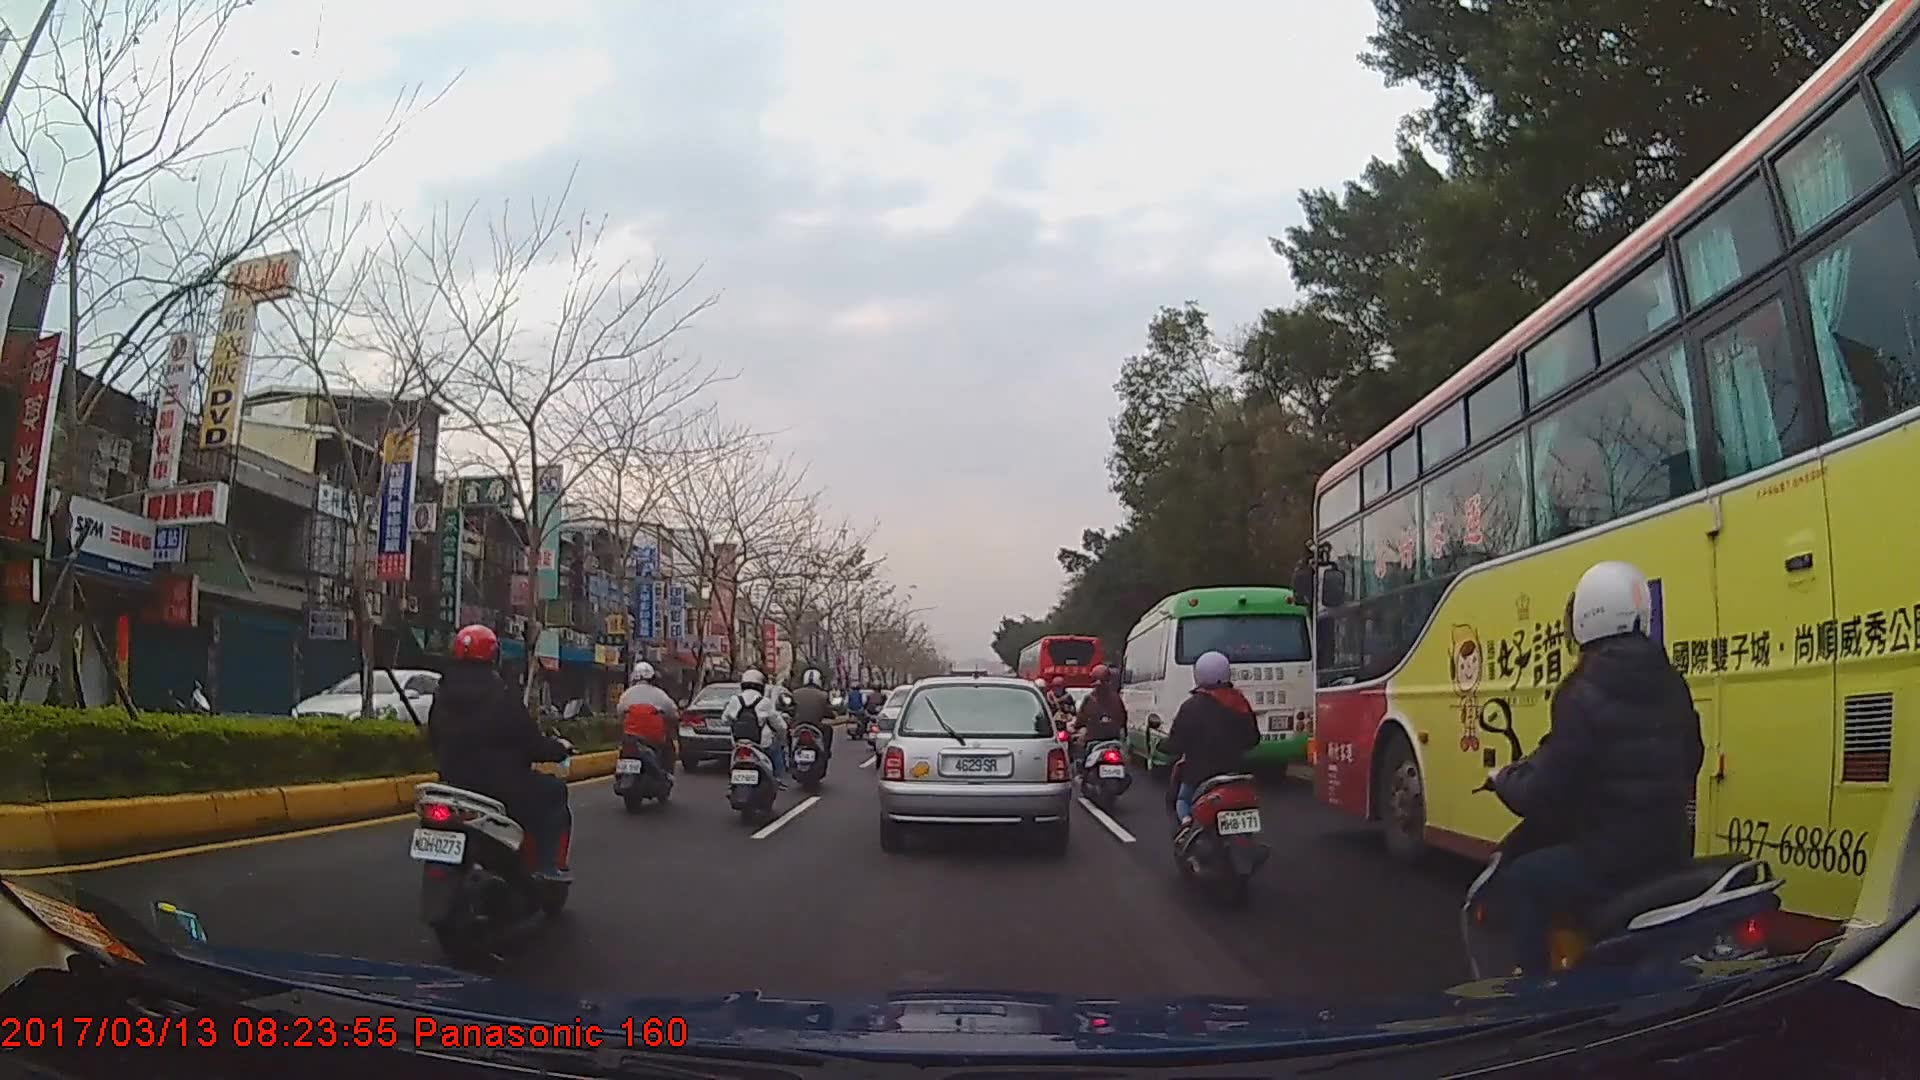rider: (1459, 557, 1800, 1015), (407, 624, 565, 974), (1165, 646, 1279, 912), (615, 660, 682, 812), (722, 667, 788, 822), (1073, 665, 1130, 797), (786, 668, 840, 792), (864, 681, 889, 750), (845, 681, 867, 723)
vehicle: (1310, 0, 1920, 991), (1116, 583, 1316, 775), (880, 675, 1068, 844), (281, 661, 479, 763), (677, 681, 804, 777), (1016, 630, 1104, 739)
